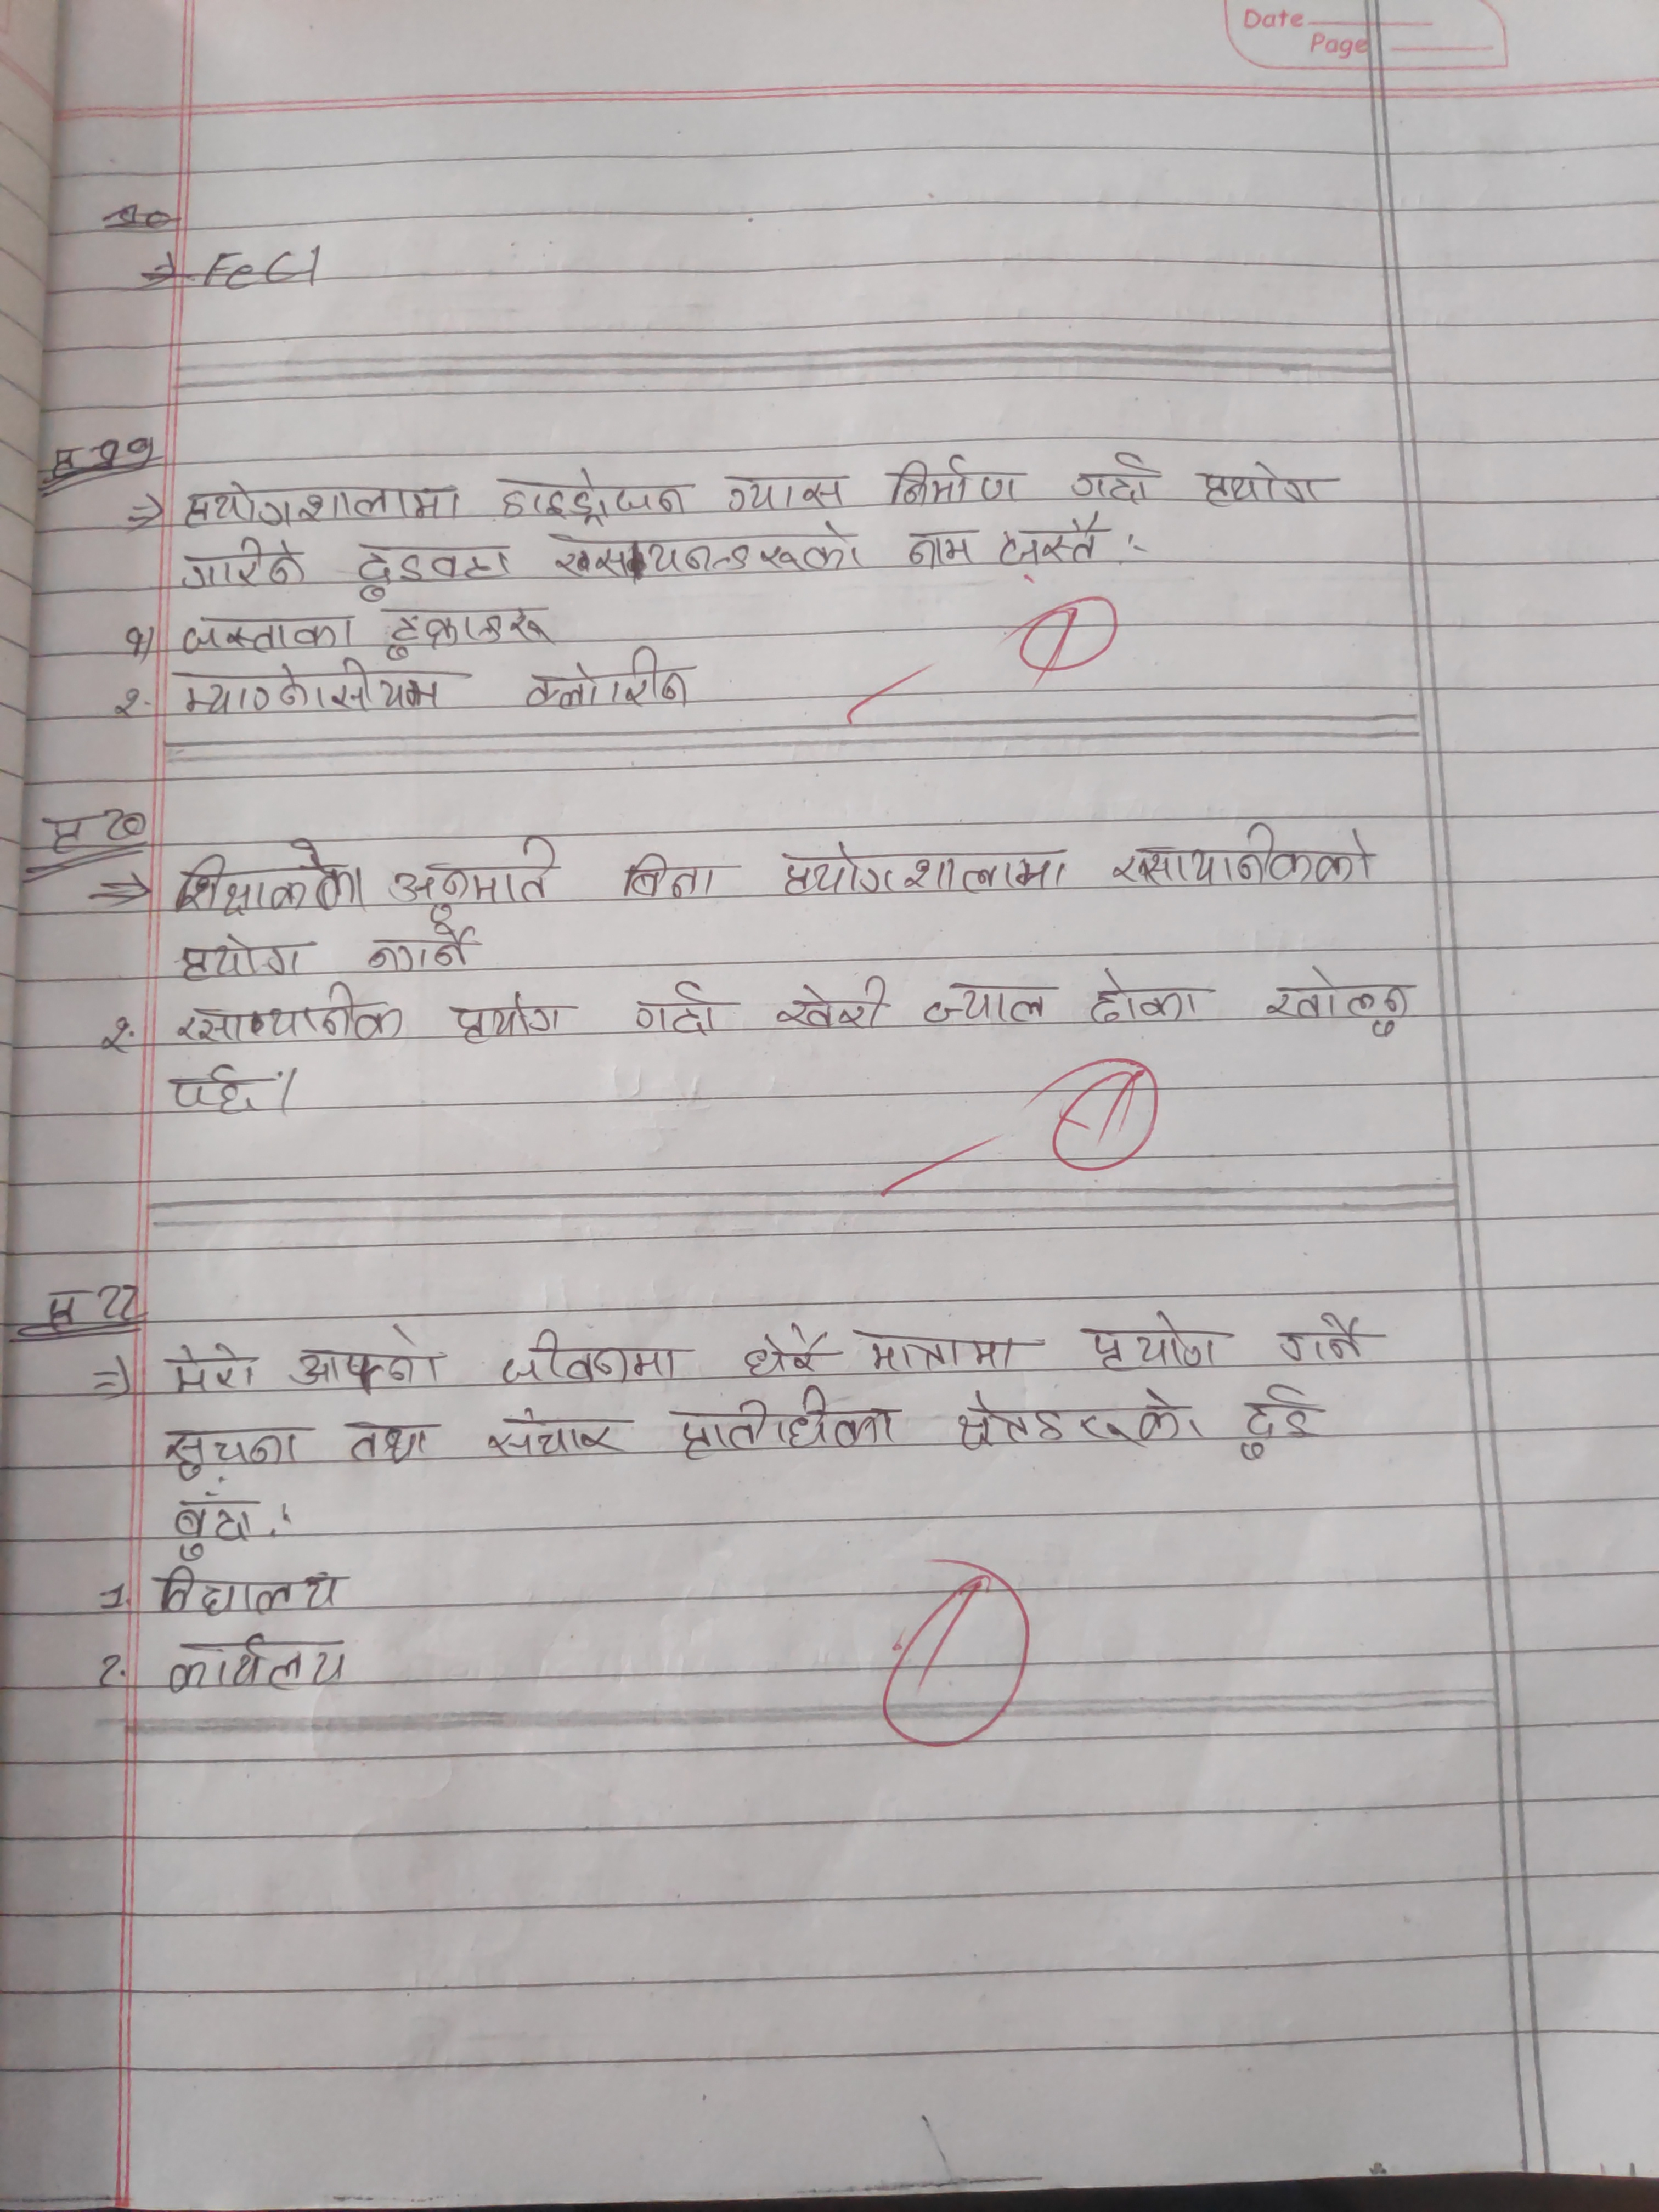text: (547, 524, 877, 582), (775, 833, 1075, 895), (669, 1381, 901, 1460), (1107, 819, 1380, 883), (953, 1385, 1208, 1449), (171, 836, 371, 914), (385, 838, 566, 923), (181, 477, 465, 531), (174, 981, 408, 1045), (173, 664, 457, 714), (167, 1632, 350, 1696), (1263, 963, 1417, 1040), (493, 465, 688, 523), (497, 1329, 685, 1386), (525, 648, 692, 711), (155, 1564, 350, 1615), (350, 540, 516, 599), (293, 1327, 444, 1392), (1082, 1310, 1229, 1372), (852, 1327, 1033, 1378), (378, 606, 554, 655), (160, 1423, 303, 1479), (486, 1409, 629, 1463), (179, 610, 356, 653), (1195, 455, 1328, 512), (889, 451, 1025, 507), (775, 974, 894, 1035), (1087, 967, 1209, 1026), (439, 989, 566, 1045), (178, 536, 307, 590), (1236, 1381, 1323, 1460), (178, 930, 312, 981), (918, 979, 1054, 1028), (364, 923, 477, 977), (169, 1491, 253, 1562), (1000, 514, 1105, 570), (166, 1062, 270, 1118), (167, 1338, 265, 1397), (723, 470, 850, 516), (633, 977, 725, 1035), (626, 850, 723, 902), (1274, 1312, 1366, 1364), (1072, 451, 1164, 502), (746, 1322, 831, 1376), (342, 1420, 436, 1467), (904, 523, 979, 571)
